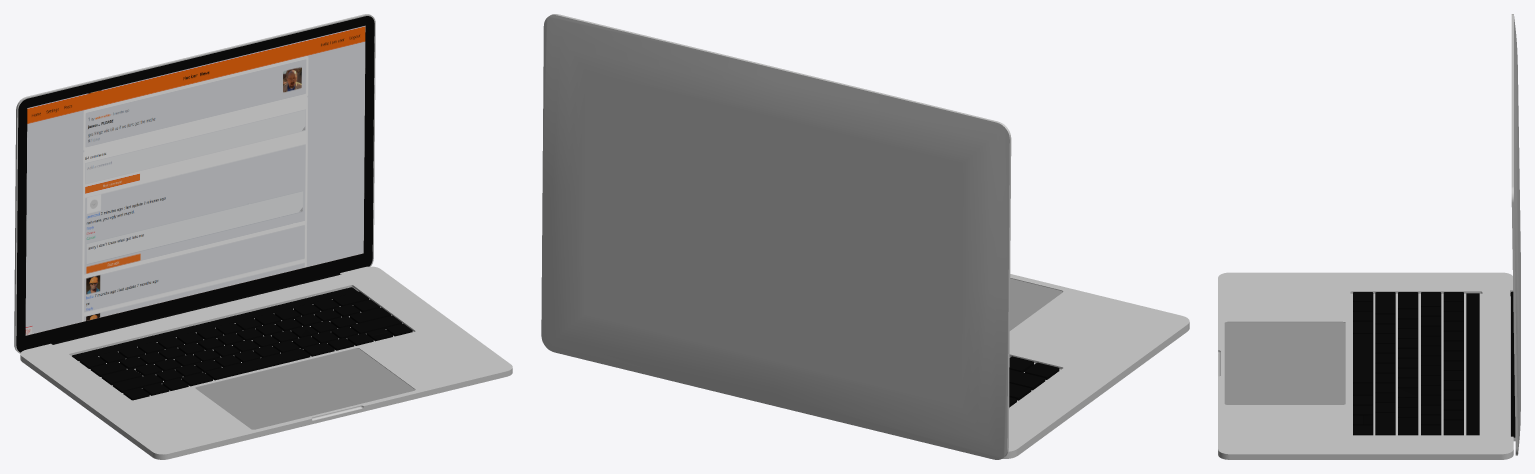
Rendered from computer.glb.
3 renders of one model, left to right at view 1: azimuth 30°, elevation 25°; view 2: azimuth 150°, elevation 25°; view 3: azimuth 270°, elevation 25°, orthographic. The views are drawn at different scales.
Visible parts, largest first — view 1: screen, base, keyboard, touchbar; view 2: screen, base, keyboard; view 3: base, keyboard, screen, touchbar.
Part boxes in pixels (x1,y1,x2,y2): screen: [14, 14, 375, 353]; base: [20, 266, 512, 459]; keyboard: [79, 291, 412, 400]; touchbar: [72, 287, 358, 360]; screen: [541, 14, 1011, 459]; base: [1002, 274, 1189, 458]; keyboard: [1009, 356, 1059, 407]; base: [1218, 272, 1513, 459]; keyboard: [1353, 292, 1463, 435]; screen: [1510, 14, 1520, 455]; touchbar: [1466, 293, 1479, 435].
Bounding box in the file's own units: 8.81 × 6.16 × 6.2.
6 materials, 1 textured.
